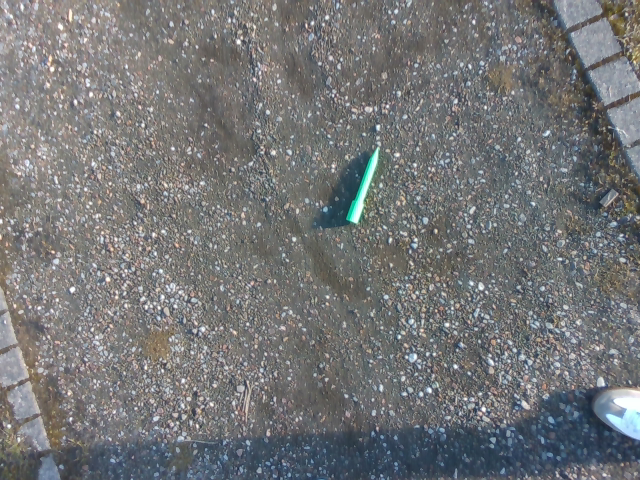Probe: (343, 143, 384, 230)
